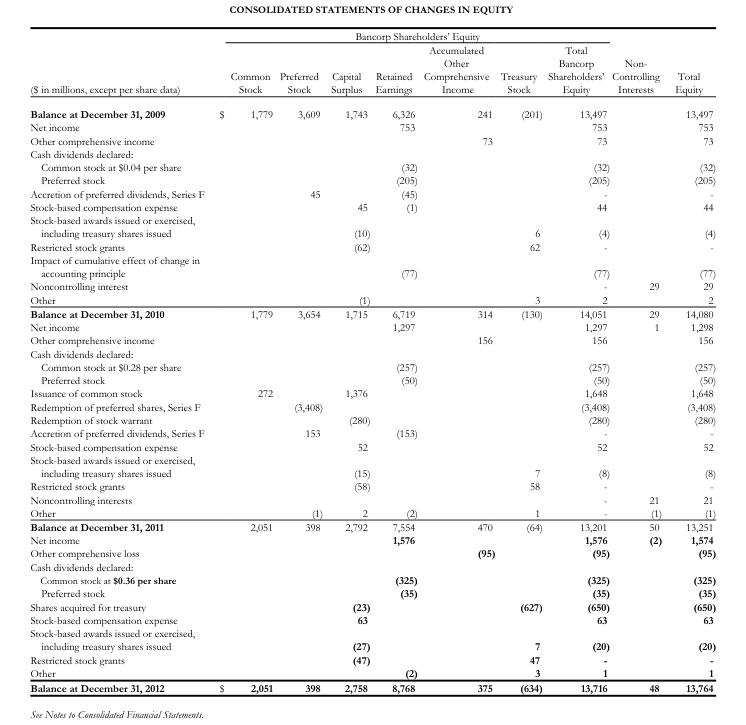table: (29, 29, 715, 693)
table column: (29, 29, 211, 693), (419, 29, 497, 693), (544, 29, 610, 693), (211, 29, 275, 693), (610, 29, 667, 693), (275, 29, 326, 693), (667, 29, 715, 693), (372, 29, 419, 693), (497, 29, 544, 693), (326, 29, 372, 693)
table column header: (29, 29, 715, 101)
table projected row header: (29, 346, 715, 360), (29, 559, 715, 573), (29, 147, 715, 160)
table row: (29, 42, 715, 101), (29, 452, 715, 479), (29, 213, 715, 239), (29, 253, 715, 279), (29, 626, 715, 652), (29, 101, 715, 120), (29, 665, 715, 680), (29, 133, 715, 147), (29, 186, 715, 200), (29, 239, 715, 253), (29, 292, 715, 306), (29, 306, 715, 320), (29, 346, 715, 360), (29, 399, 715, 413), (29, 505, 715, 519), (29, 519, 715, 533), (29, 559, 715, 573), (29, 612, 715, 626), (29, 29, 715, 42), (29, 120, 715, 133), (29, 147, 715, 160), (29, 160, 715, 173), (29, 173, 715, 186), (29, 200, 715, 213), (29, 279, 715, 292), (29, 320, 715, 333), (29, 333, 715, 346), (29, 360, 715, 373), (29, 373, 715, 386), (29, 386, 715, 399), (29, 413, 715, 426), (29, 426, 715, 439), (29, 439, 715, 452), (29, 479, 715, 492), (29, 492, 715, 505), (29, 533, 715, 546), (29, 546, 715, 559), (29, 573, 715, 586), (29, 586, 715, 599), (29, 599, 715, 612), (29, 652, 715, 665), (29, 680, 715, 693)
table spanning cell: (29, 29, 211, 101), (211, 29, 610, 42), (610, 29, 667, 101), (667, 29, 715, 101)
